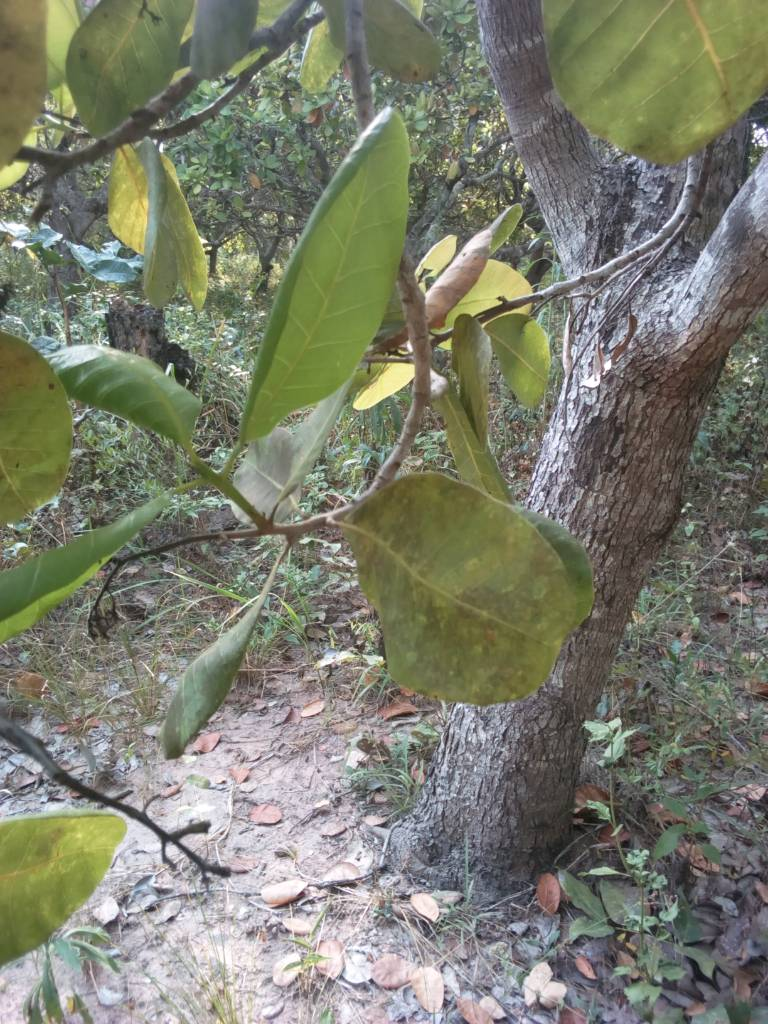Dessèchement des bourgeons: (61, 767, 241, 896), (90, 527, 204, 638)
